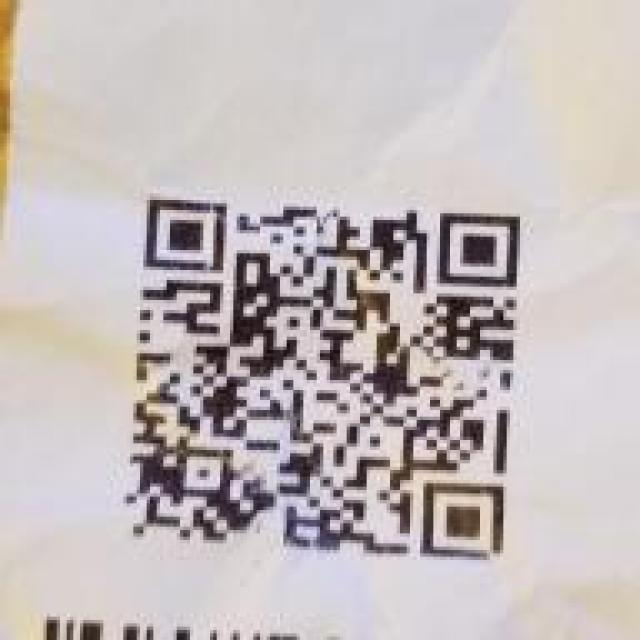QR_CODE: (105, 170, 547, 572)
